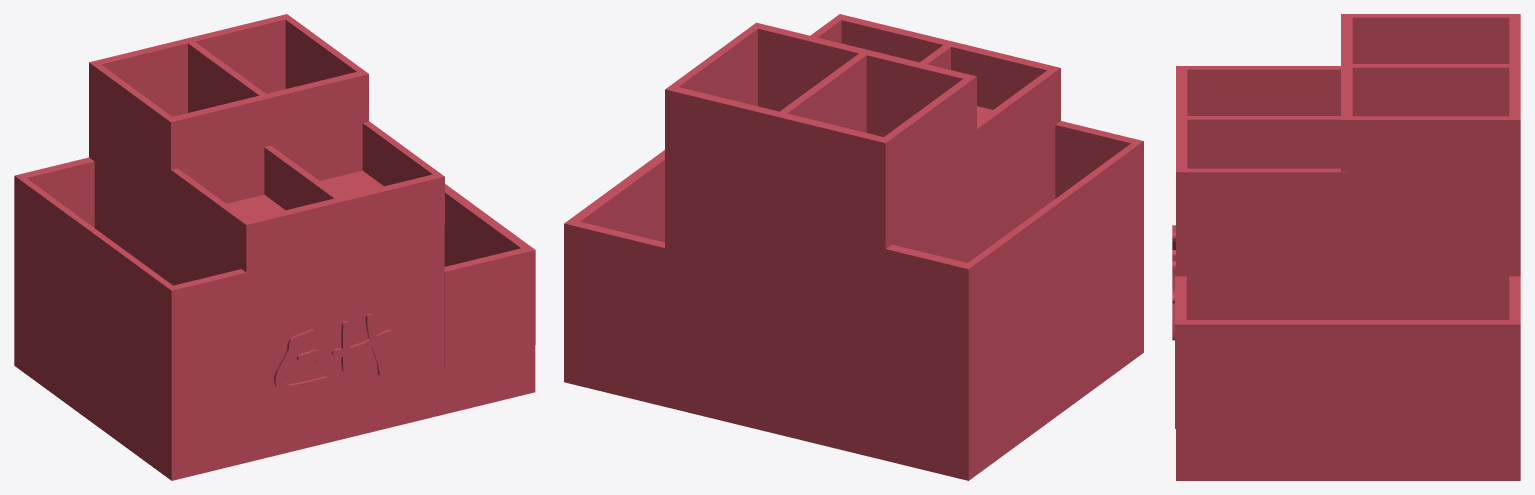
The model's file is AAATOPLISTTESTMODEL.glb.
3 renders of one model, left to right at view 1: azimuth 30°, elevation 25°; view 2: azimuth 150°, elevation 25°; view 3: azimuth 270°, elevation 25°, orthographic. The views are drawn at different scales.
Visible parts, largest first — view 1: Mesh_Mesh_head_geo.001_lambert2SG.001; view 2: Mesh_Mesh_head_geo.001_lambert2SG.001; view 3: Mesh_Mesh_head_geo.001_lambert2SG.001.
Part boxes in pixels (x1=…): Mesh_Mesh_head_geo.001_lambert2SG.001: x1=14, y1=14, x2=535, y2=480; Mesh_Mesh_head_geo.001_lambert2SG.001: x1=564, y1=14, x2=1143, y2=480; Mesh_Mesh_head_geo.001_lambert2SG.001: x1=1172, y1=14, x2=1520, y2=480.
Size of the model in its own units: 102 by 76.2 by 76.99.
